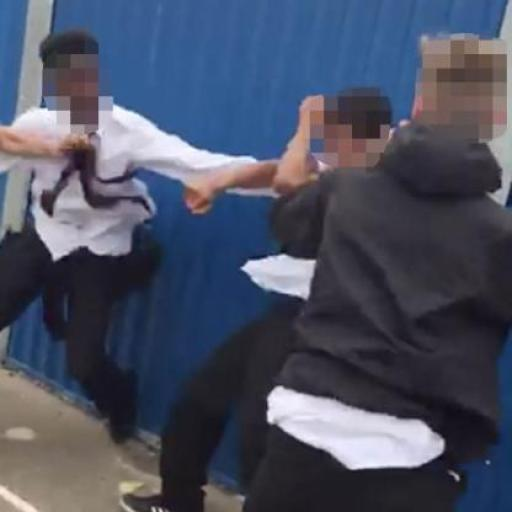Fighting: (5, 29, 393, 512)
